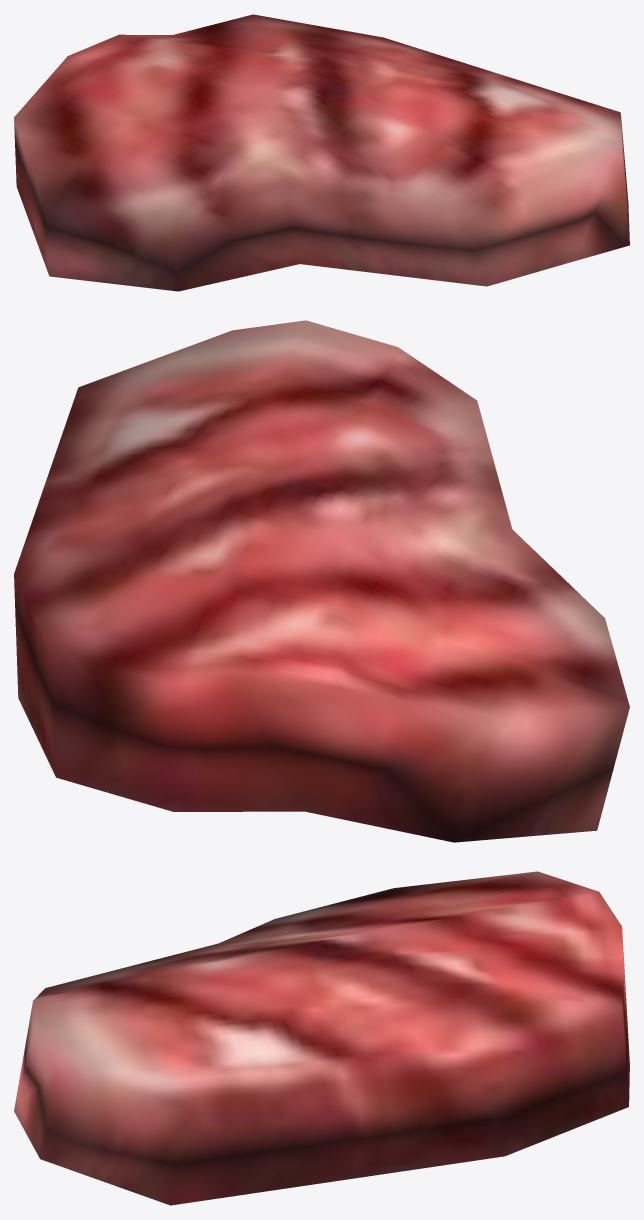
The model's file is SM_steak_00.gltf.
3 views of the same model, one above another, from view 1: azimuth 30°, elevation 25°; view 2: azimuth 150°, elevation 25°; view 3: azimuth 270°, elevation 25° (orthographic). The views are drawn at different scales.
Parts seen in each view (by area): view 1: SM_steak_00; view 2: SM_steak_00; view 3: SM_steak_00.
Boxes of the visible parts, left/top/right/bottom form: SM_steak_00: left=14, top=14, right=629, bottom=291; SM_steak_00: left=14, top=320, right=629, bottom=842; SM_steak_00: left=14, top=871, right=629, bottom=1205.
Bounding box in the file's own units: 0.244 × 0.0754 × 0.2388.
1 material, 1 textured.
